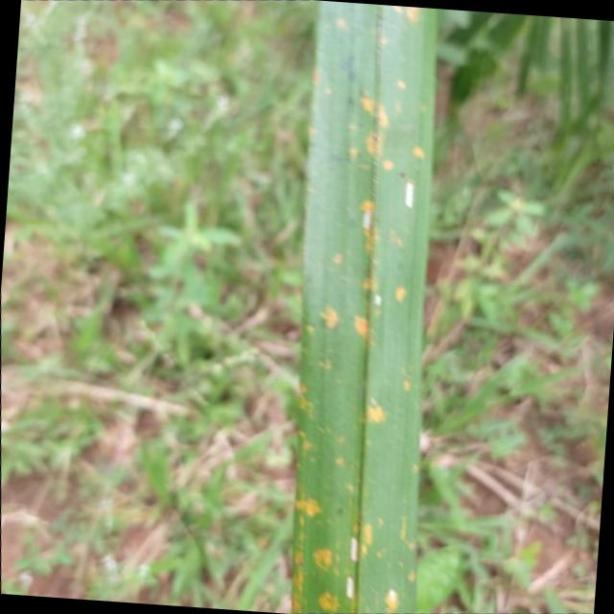Kalium: (294, 0, 438, 614)
